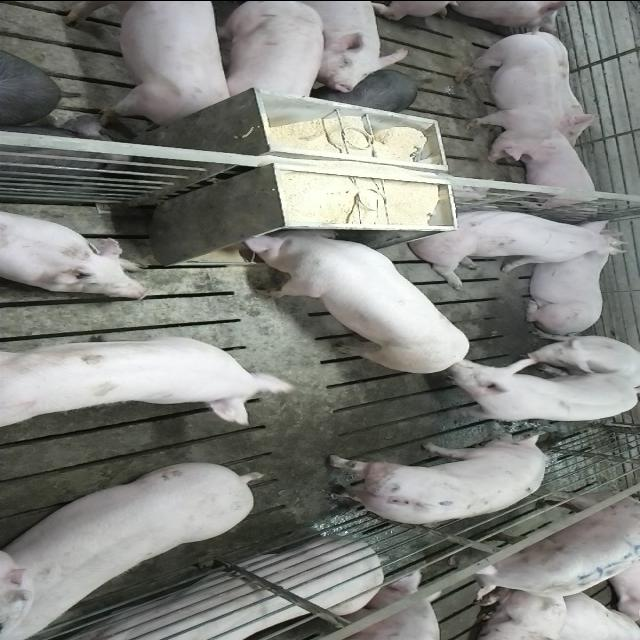Feeding: (238, 219, 472, 369)
Lateral_lying: (56, 540, 413, 640)
Sitting: (407, 204, 629, 284), (508, 333, 638, 385)
Standing: (4, 456, 268, 634), (0, 329, 294, 431), (438, 492, 640, 608), (64, 3, 238, 125), (318, 434, 553, 524), (422, 354, 640, 424), (452, 28, 560, 164), (284, 0, 406, 90), (216, 2, 324, 102)
Sternal_lying: (0, 207, 153, 297), (516, 222, 624, 332), (508, 132, 604, 212)
